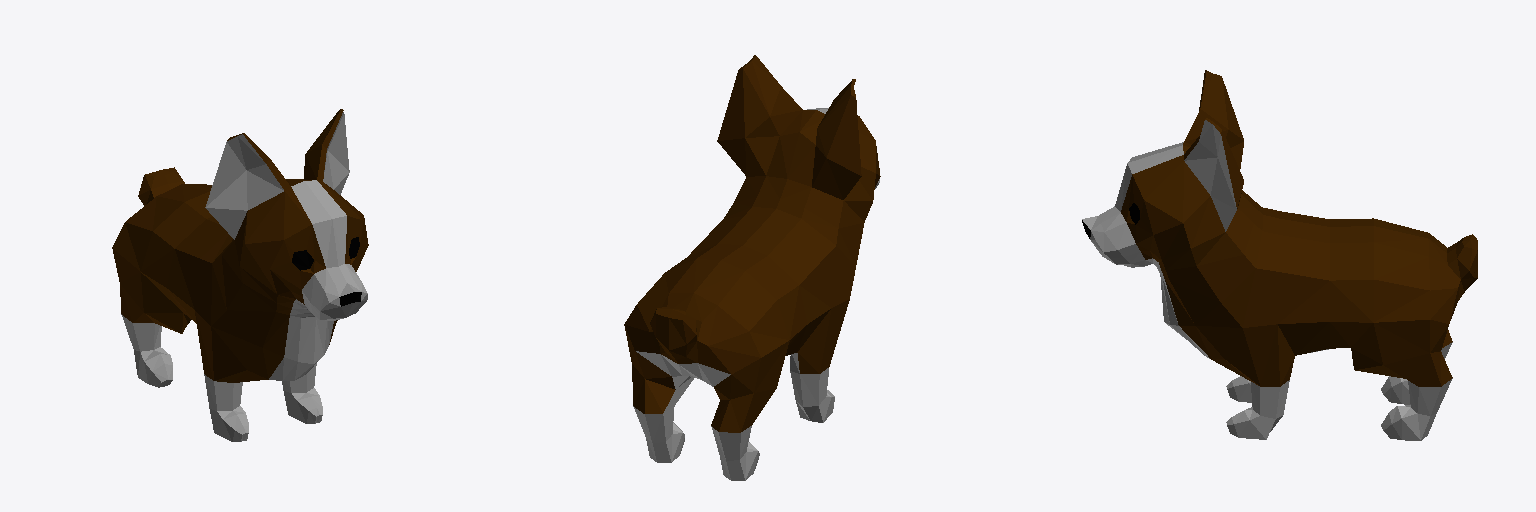
The model's file is corgi.obj.
The picture shows the model from 3 angles: view 1: azimuth 30°, elevation 25°; view 2: azimuth 150°, elevation 25°; view 3: azimuth 270°, elevation 25°; orthographic projection.
Visible parts, largest first — view 1: Cylinder; view 2: Cylinder; view 3: Cylinder.
Boxes of the visible parts, <box> form: Cylinder: <box>112,109,368,441</box>; Cylinder: <box>624,55,880,480</box>; Cylinder: <box>1082,70,1477,440</box>.
Size of the model in its own units: 1.81 by 3.88 by 4.32.